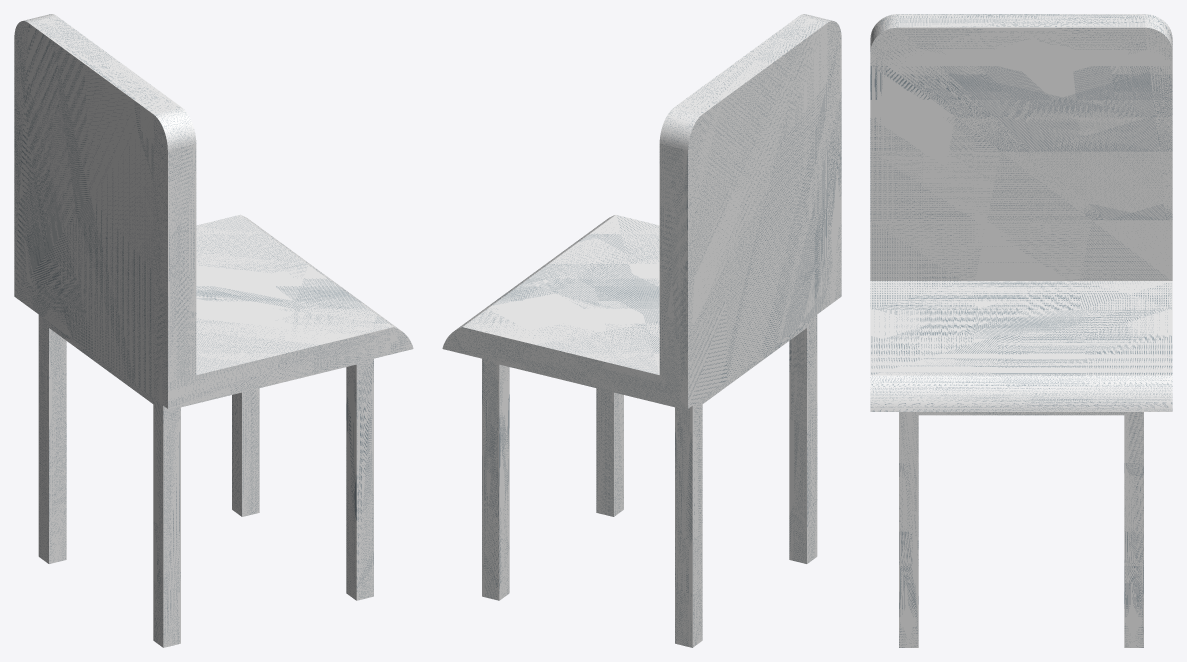
Rendered from Silla.fbx.
3 views of the same model, side by side, from view 1: azimuth 30°, elevation 25°; view 2: azimuth 150°, elevation 25°; view 3: azimuth 270°, elevation 25° (orthographic).
Parts seen in each view (by area): view 1: Model; view 2: Model; view 3: Model.
Part boxes in pixels (bbox=[...]): Model: bbox=[14, 14, 413, 647]; Model: bbox=[442, 14, 841, 647]; Model: bbox=[870, 14, 1172, 647].
Size of the model in its own units: 48.98 by 102 by 52.98.
